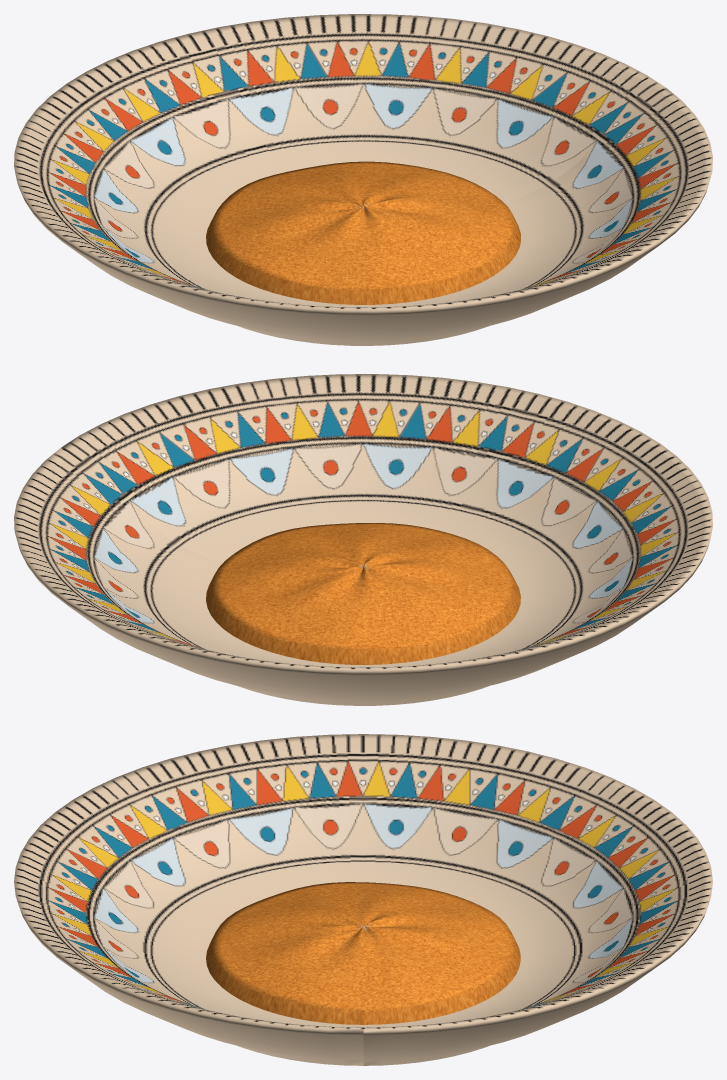
The model's file is Couscous_Plat_010pct.obj.
The picture shows the model from 3 angles, top to bottom: view 1: azimuth 30°, elevation 25°; view 2: azimuth 150°, elevation 25°; view 3: azimuth 270°, elevation 25°; orthographic projection.
Parts seen in each view (by area): view 1: 00_Plate_Tebsi_Ceramic, 01_Couscous_Semolina_Mound; view 2: 00_Plate_Tebsi_Ceramic, 01_Couscous_Semolina_Mound; view 3: 00_Plate_Tebsi_Ceramic, 01_Couscous_Semolina_Mound.
Boxes of the visible parts, <box> form: 00_Plate_Tebsi_Ceramic: <box>14,14,712,345</box>; 01_Couscous_Semolina_Mound: <box>206,161,520,304</box>; 00_Plate_Tebsi_Ceramic: <box>14,374,712,705</box>; 01_Couscous_Semolina_Mound: <box>206,523,520,664</box>; 00_Plate_Tebsi_Ceramic: <box>14,734,712,1065</box>; 01_Couscous_Semolina_Mound: <box>206,882,520,1024</box>.
Size of the model in its own units: 0.32 by 0.052 by 0.32.
1 material, 1 textured.
